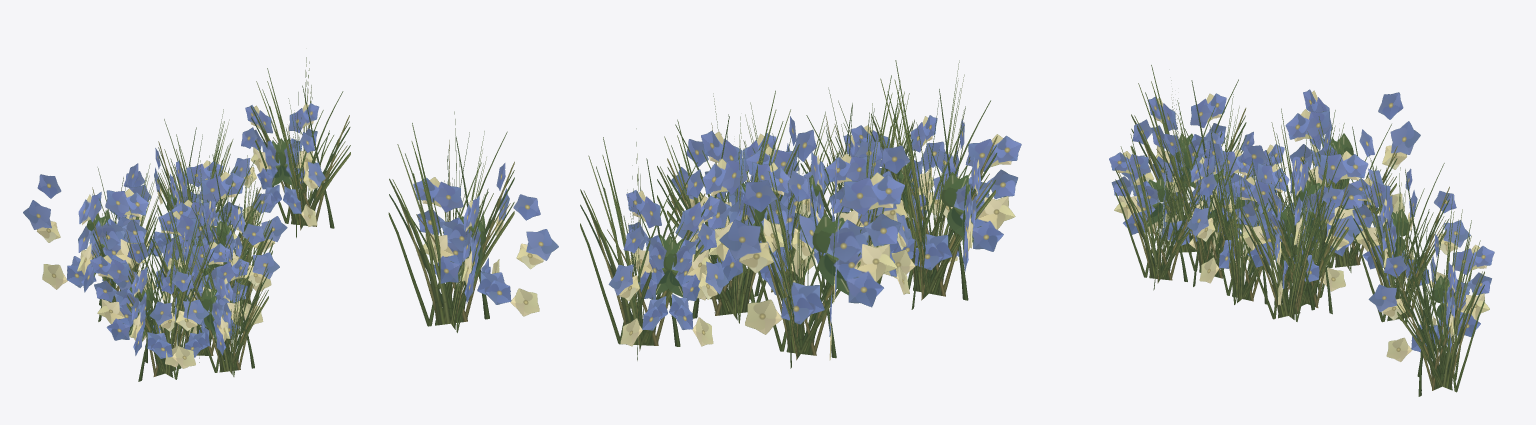
Rendered from SM_Flower_Patch.fbx.
3 views of the same model, side by side, from view 1: azimuth 30°, elevation 25°; view 2: azimuth 150°, elevation 25°; view 3: azimuth 270°, elevation 25° (orthographic). The views are drawn at different scales.
Visible parts, largest first — view 1: SM_Flower_Patch; view 2: SM_Flower_Patch; view 3: SM_Flower_Patch.
Boxes of the visible parts, x1=… form: SM_Flower_Patch: x1=23, y1=57, x2=350, y2=381; SM_Flower_Patch: x1=388, y1=60, x2=1021, y2=368; SM_Flower_Patch: x1=1109, y1=65, x2=1494, y2=396.
Size of the model in its own units: 1.31 by 0.6705 by 1.23.
Materials: 1 (1 with a texture image).
